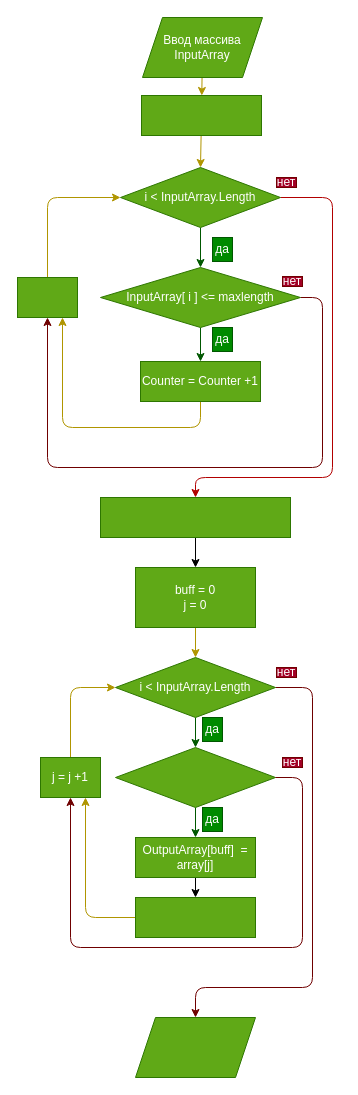
Some shapes in this 358 by 1095 pixel diagram are drawn without their labels. The shapes that lost their labels are listed below. From the top down, each one's centre as x and y in pixels, then its label:
pixel 201 115: maxlength= 3 i = 0 Counter = 0
pixel 47 297: i = i +1
pixel 195 517: new OutputArray[Counter]
pixel 195 777: Array[ i ] <= maxlength
pixel 195 917: buff = buff +1
pixel 195 1047: OutputArray
